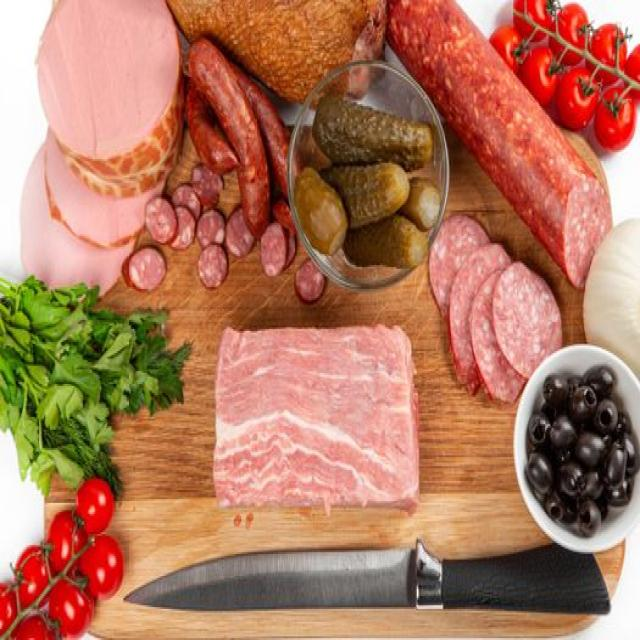knife: (120, 534, 610, 617)
